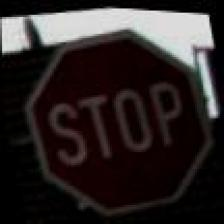Stop: (7, 8, 223, 224)
